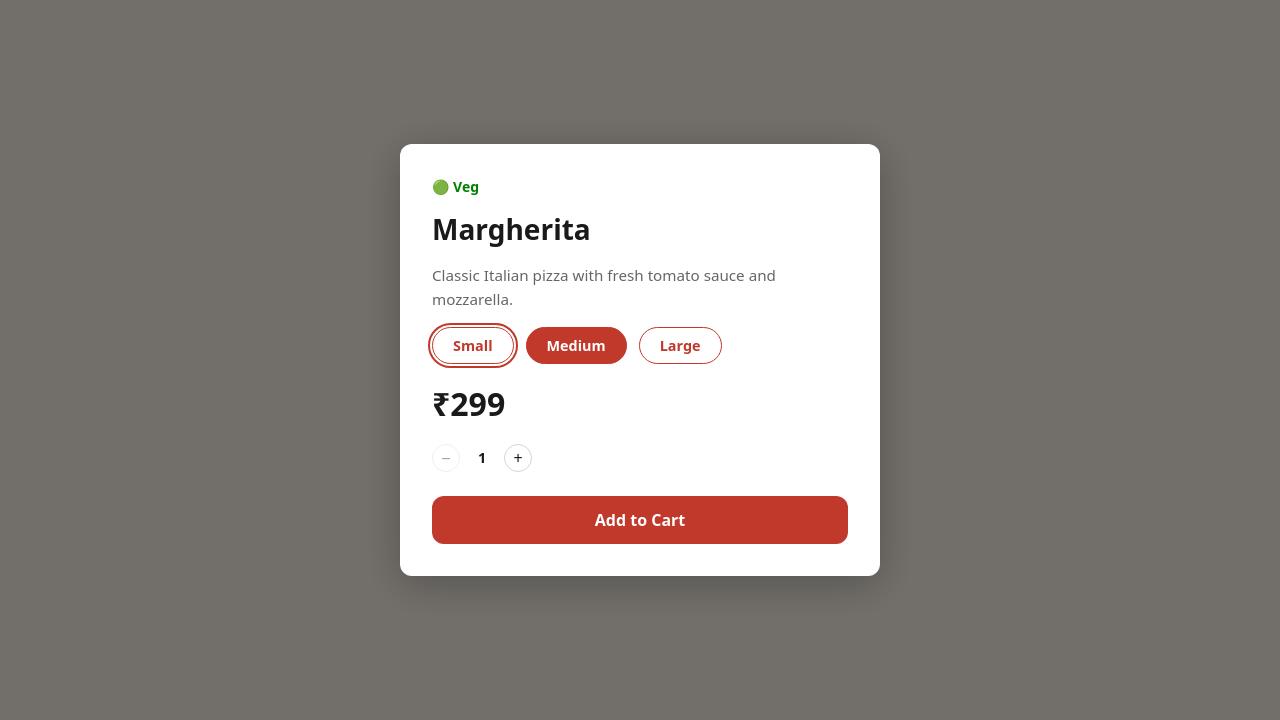
Test: PizzaDetailModal – quantity stepper › clicking + then − returns to 1
Click the button named "Increase quantity" at (518, 458), box [504,444,532,472]
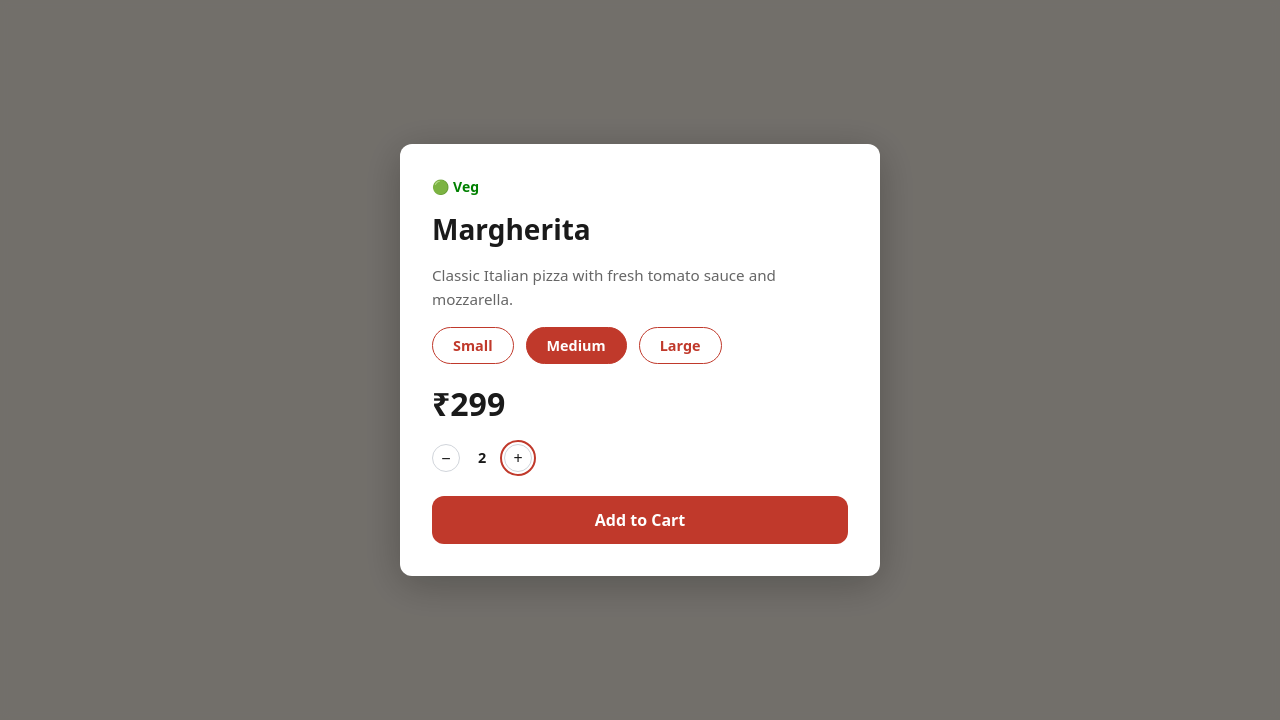
Result: the text "2" is shown at [478,448,486,467]
Click the button named "Decrease quantity" at (446, 458), box [432,444,460,472]
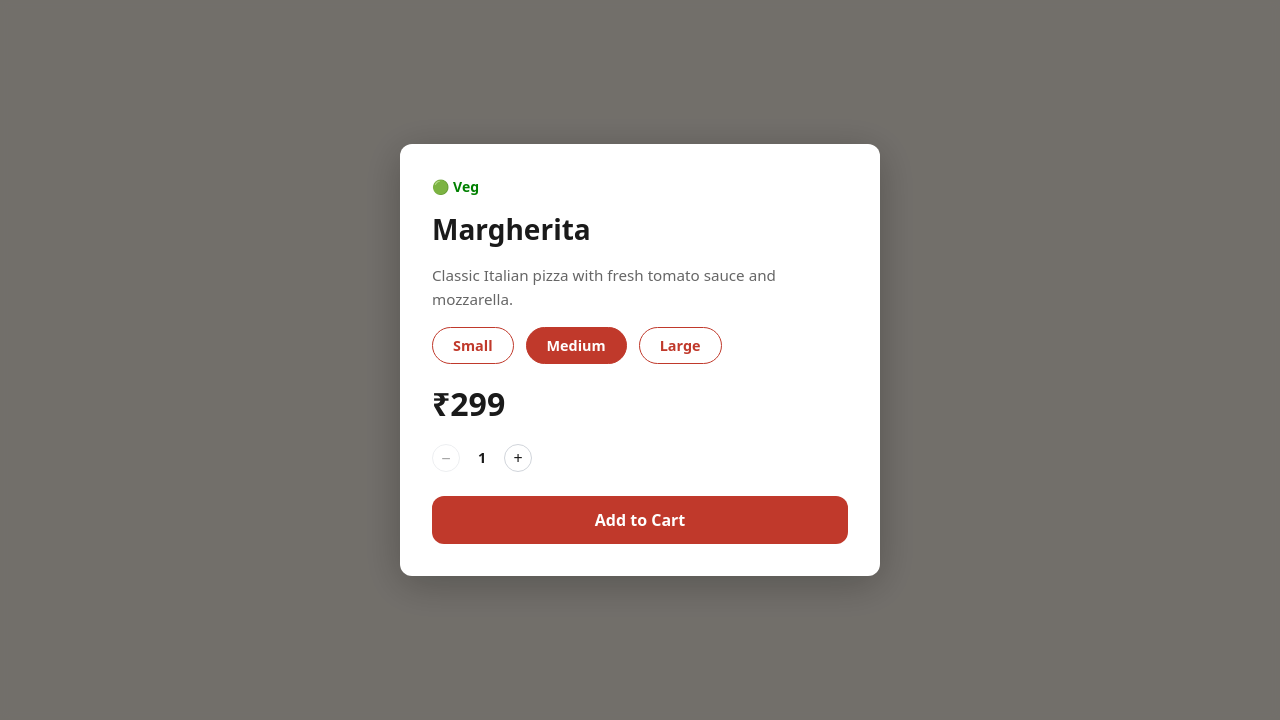
Result: the text "1" is shown at [478,448,486,467]
